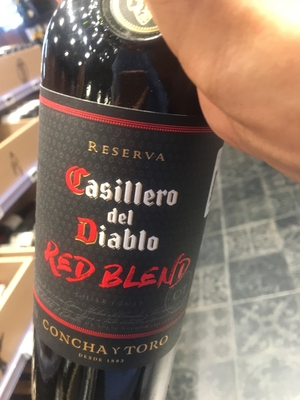casillero del diablo red blend: (28, 13, 222, 400)
